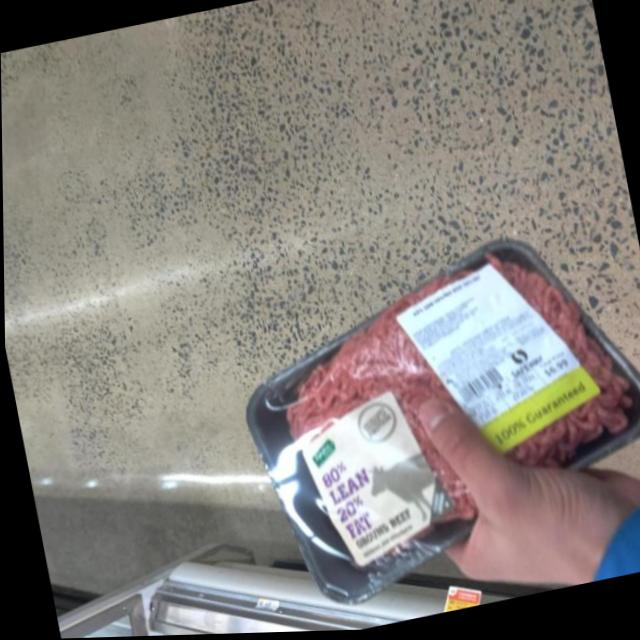Meat: (218, 219, 640, 618)
